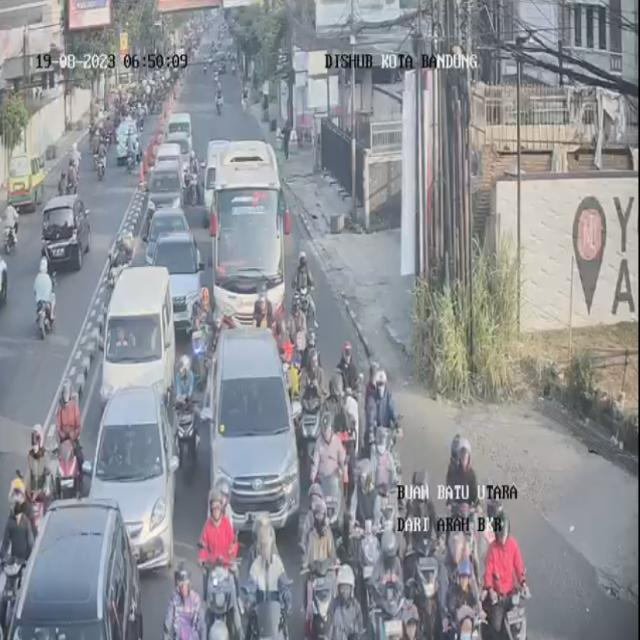bus: (209, 139, 287, 329)
cars: (3, 496, 139, 638), (210, 327, 302, 521), (92, 386, 178, 578), (102, 264, 180, 411), (152, 206, 205, 327), (146, 162, 186, 230), (164, 112, 195, 156)
motorcycle: (197, 479, 243, 640), (443, 432, 482, 609), (405, 471, 444, 638), (365, 476, 404, 638), (245, 502, 289, 638), (483, 497, 523, 640), (316, 422, 354, 569), (306, 495, 342, 637), (0, 477, 34, 615), (296, 355, 325, 495), (23, 425, 58, 529), (170, 356, 200, 476), (322, 567, 372, 638), (163, 562, 208, 640), (56, 380, 84, 502), (338, 334, 365, 454), (184, 288, 213, 382), (291, 248, 315, 332), (252, 293, 275, 348), (214, 77, 226, 118)
